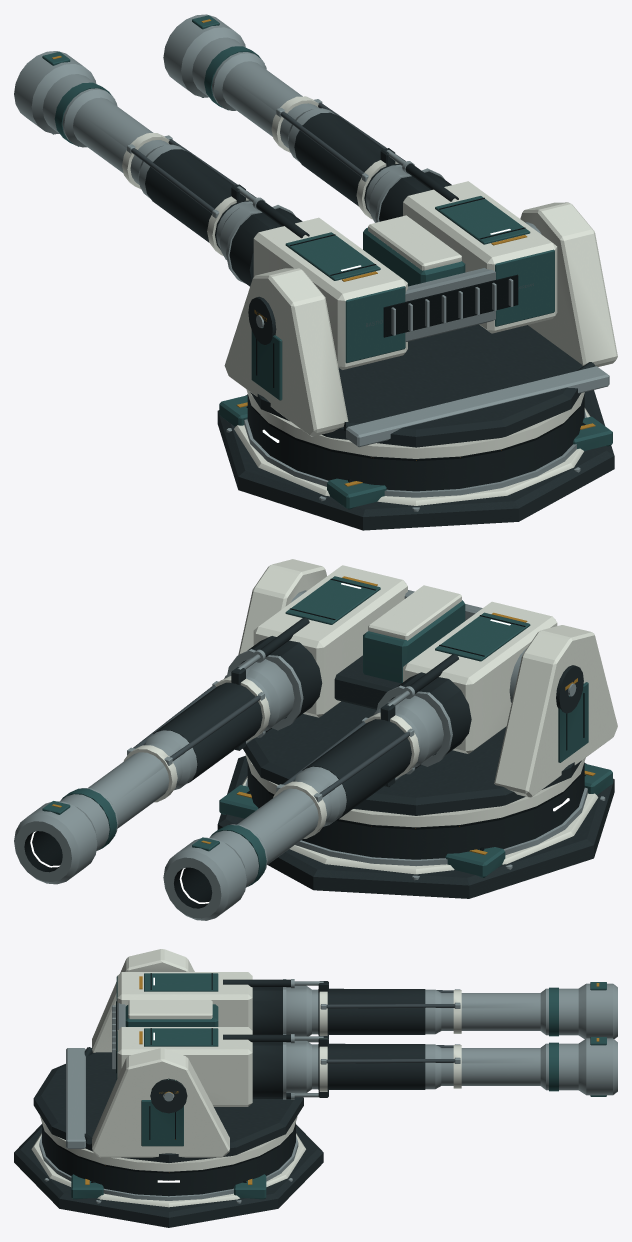
File: station-defense.glb
3 renders of one model, top to bottom at view 1: azimuth 30°, elevation 25°; view 2: azimuth 150°, elevation 25°; view 3: azimuth 270°, elevation 25°, orthographic. The views are drawn at different scales.
Parts seen in each view (by area): view 1: Bastion_Yaw_PBR, Bastion_Pitch_PBR, Bastion_Base_PBR, Bastion_Recoil_Starboard_PBR, Bastion_Recoil_Port_PBR; view 2: Bastion_Pitch_PBR, Bastion_Yaw_PBR, Bastion_Base_PBR, Bastion_Recoil_Starboard_PBR, Bastion_Recoil_Port_PBR; view 3: Bastion_Yaw_PBR, Bastion_Base_PBR, Bastion_Pitch_PBR, Bastion_Recoil_Starboard_PBR, Bastion_Recoil_Port_PBR.
Boxes of the visible parts, x1,y1,x2,y2 form: Bastion_Yaw_PBR: (224,202,617,447); Bastion_Pitch_PBR: (226,161,557,369); Bastion_Base_PBR: (217,389,614,530); Bastion_Recoil_Starboard_PBR: (163,14,408,222); Bastion_Recoil_Port_PBR: (14,51,259,259); Bastion_Pitch_PBR: (227,565,557,774); Bastion_Yaw_PBR: (238,559,617,815); Bastion_Base_PBR: (217,754,614,898); Bastion_Recoil_Starboard_PBR: (14,654,294,884); Bastion_Recoil_Port_PBR: (163,690,443,920); Bastion_Yaw_PBR: (33,949,303,1162); Bastion_Base_PBR: (14,1116,323,1227); Bastion_Pitch_PBR: (112,972,294,1106); Bastion_Recoil_Starboard_PBR: (286,1036,617,1097); Bastion_Recoil_Port_PBR: (286,981,617,1042).
Bounding box in the file's own units: 20 × 11.52 × 39.
Materials: 2 (1 with a texture image).
